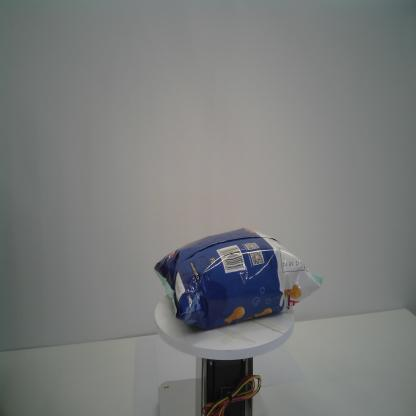Puffed Food: (154, 227, 324, 331)
